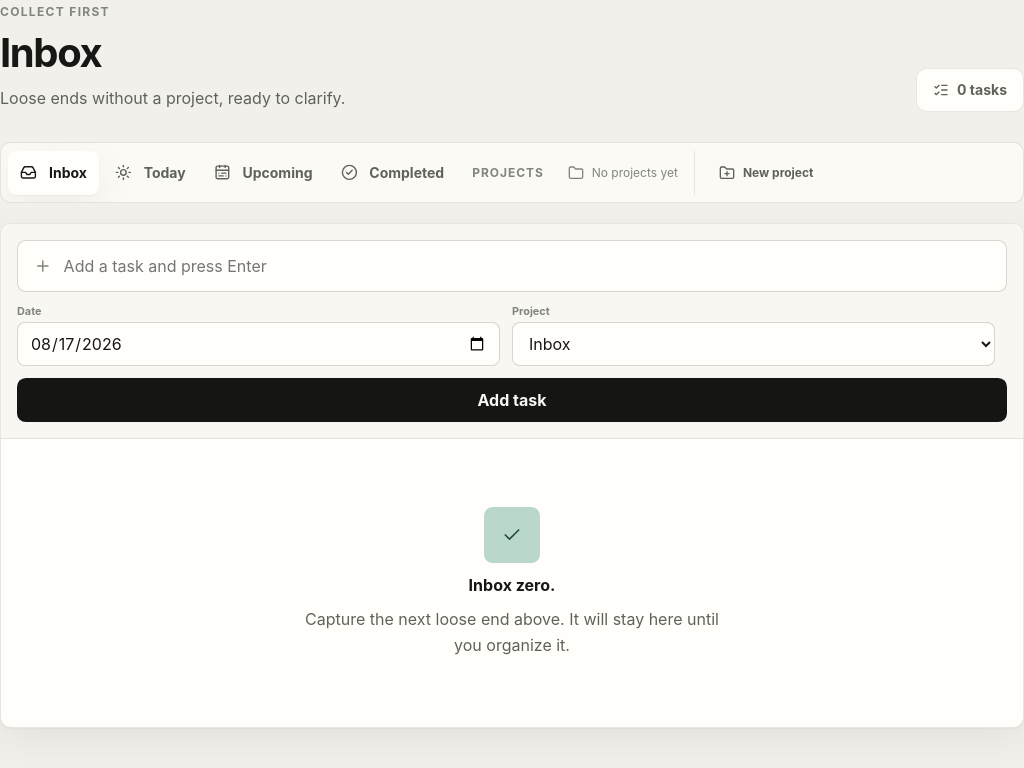
TasksPage daily flow › creates an Inbox task with Enter and completes it
The width and height of the screenshot is (1024, 768).
Check: the date field named "Scheduled date" holds "2026-08-17", box [17,322,500,366]
In the field named "Task title": (527, 266) [64,242,990,290], type "Prepare tomorrow"
Then press Enter
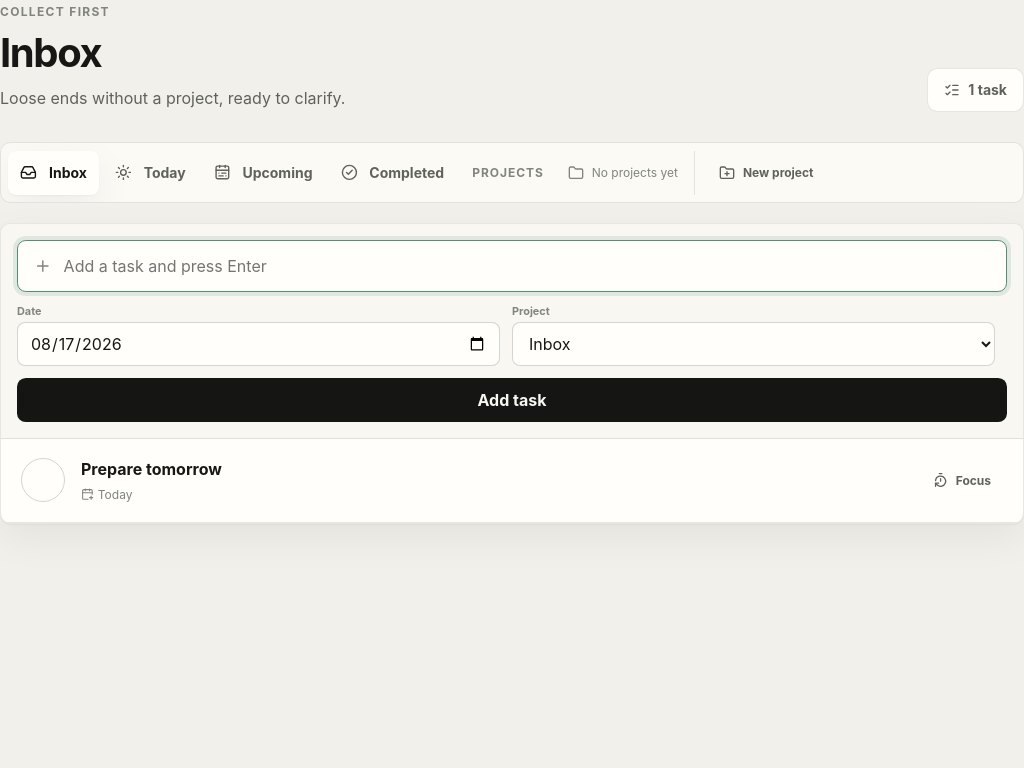
Check: the text "Prepare tomorrow" is shown, box [81,459,222,479]
Click the button named "Complete Prepare tomorrow": (43, 480) [21,458,65,502]
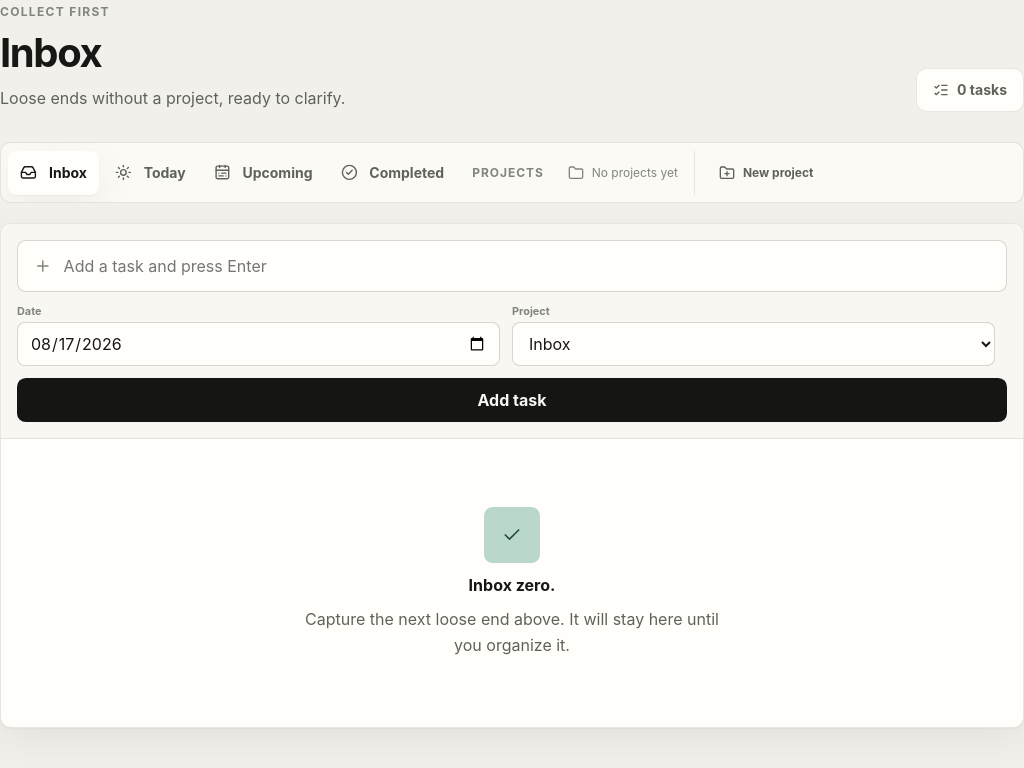
Check: the button "Prepare tomorrow" is gone
